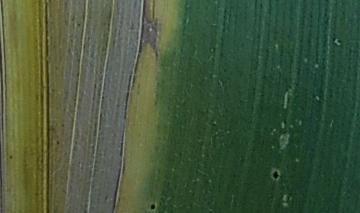tarspot: (270, 169, 282, 182), (149, 201, 159, 211), (7, 154, 15, 161), (54, 139, 62, 145)
